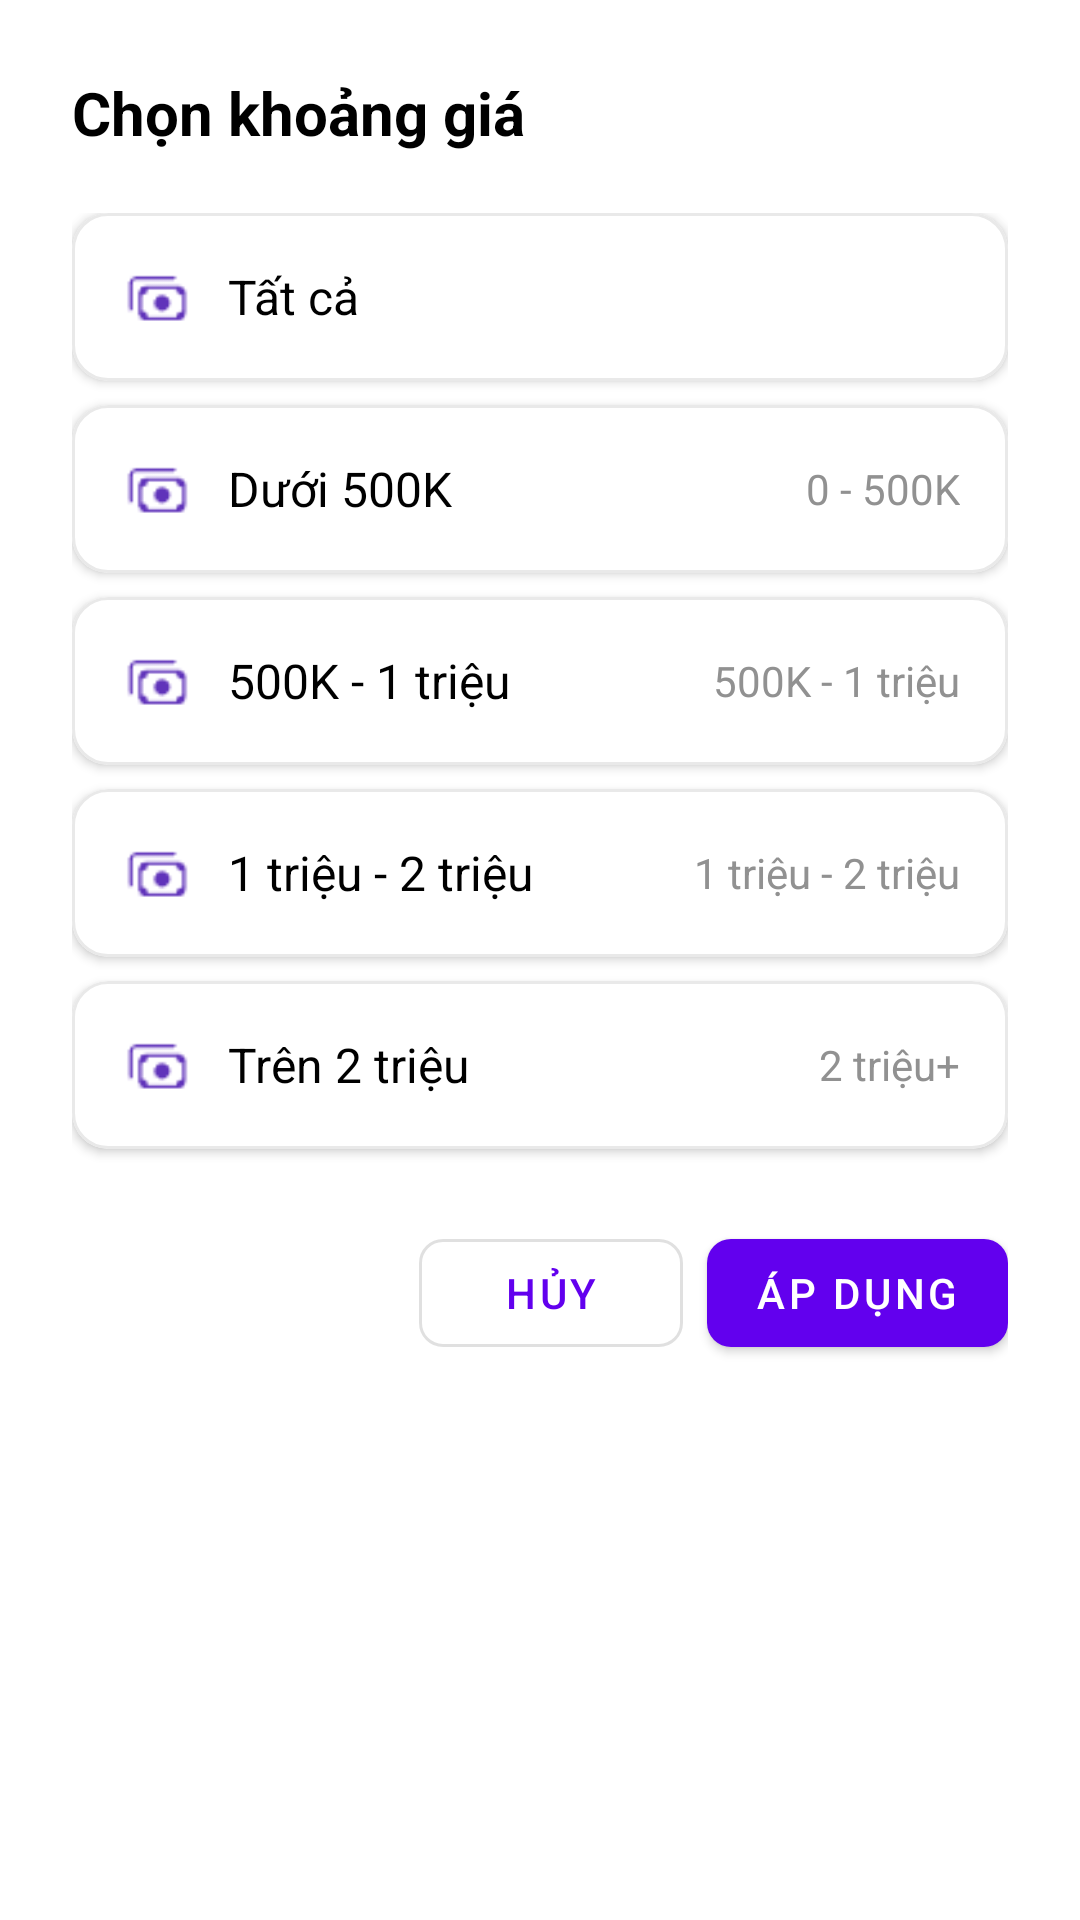

Named icons in this screenshot (1080px x 1920px) and their centers, (x=x, y=y):
currency notes: (x=157, y=298), (x=157, y=490), (x=157, y=682), (x=157, y=874), (x=157, y=1066)
